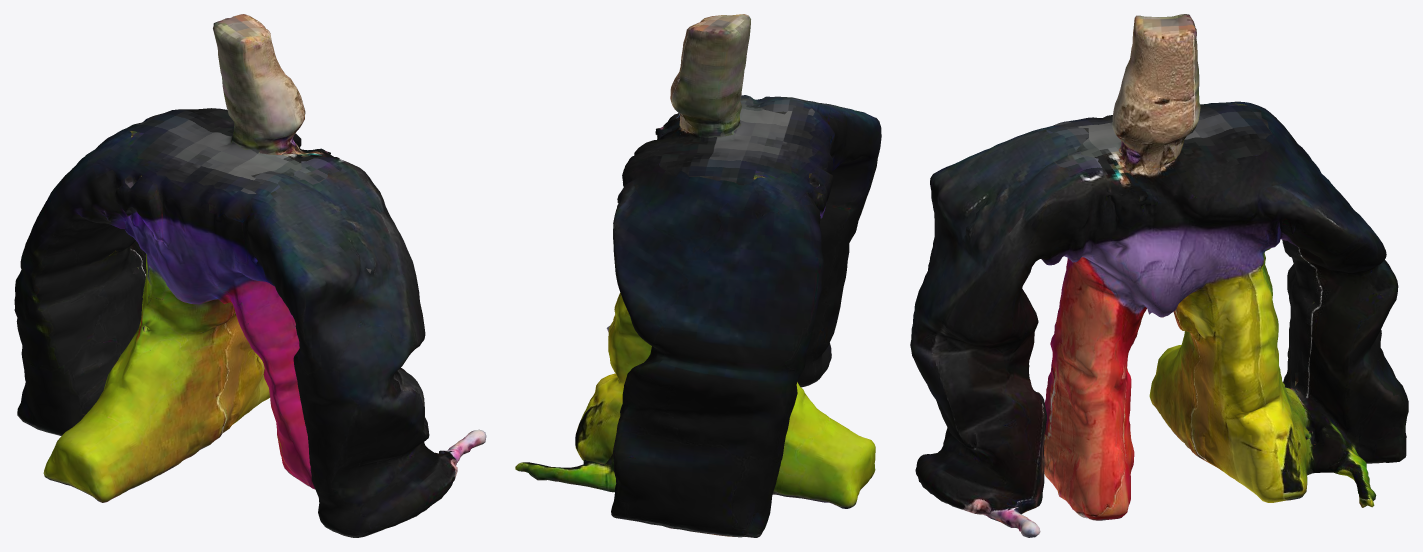
Rendered from Sculpture.glb.
3 views of the same model, side by side, from view 1: azimuth 30°, elevation 25°; view 2: azimuth 150°, elevation 25°; view 3: azimuth 270°, elevation 25° (orthographic). The views are drawn at different scales.
Parts seen in each view (by area): view 1: Mesh1; view 2: Mesh1; view 3: Mesh1.
Part boxes in pixels (x1,y1,x2,y2): Mesh1: (14,14,486,537); Mesh1: (515,14,881,537); Mesh1: (910,14,1408,537).
Bounding box in the file's own units: 0.9826 × 1.2 × 1.17.
Materials: 1 (1 with a texture image).
